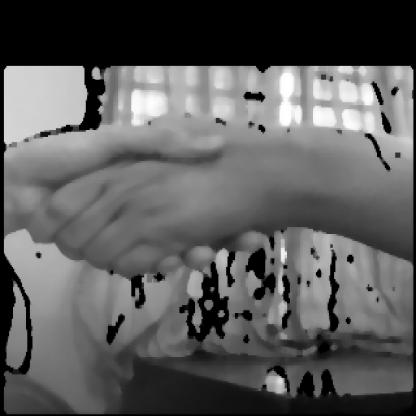handshake: (8, 104, 409, 307)
